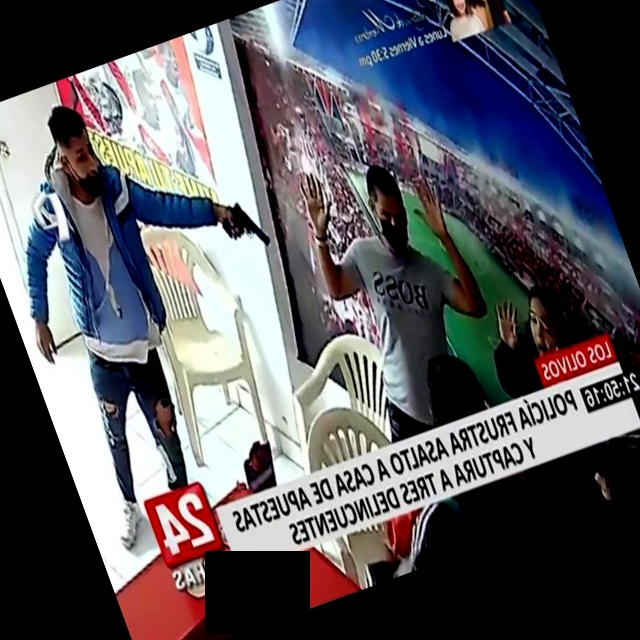gun: (205, 171, 280, 275)
